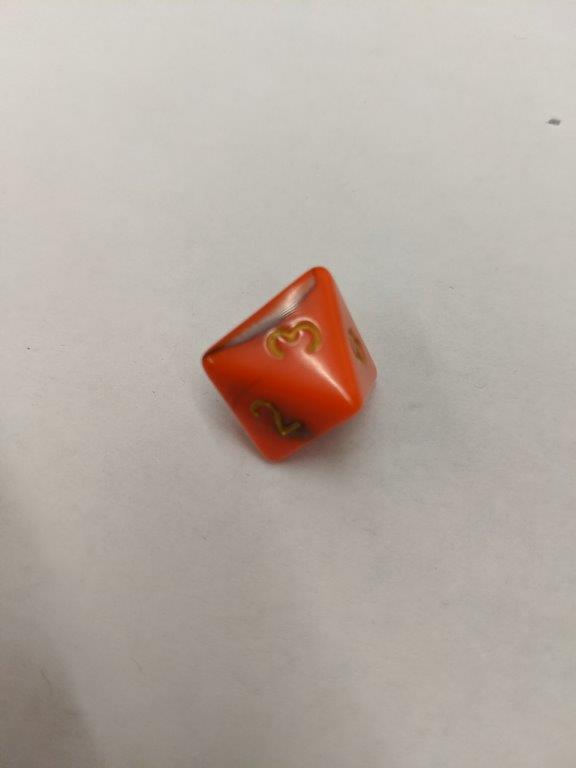d8-3: (202, 265, 379, 468)
